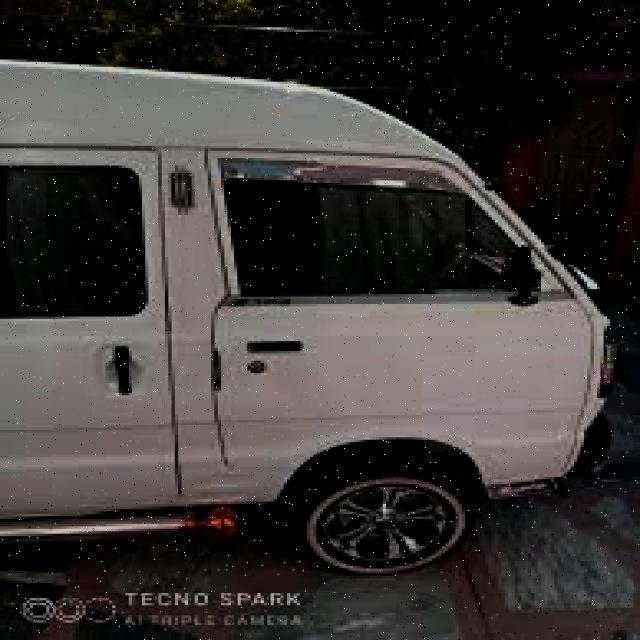Van: (0, 49, 627, 578)
